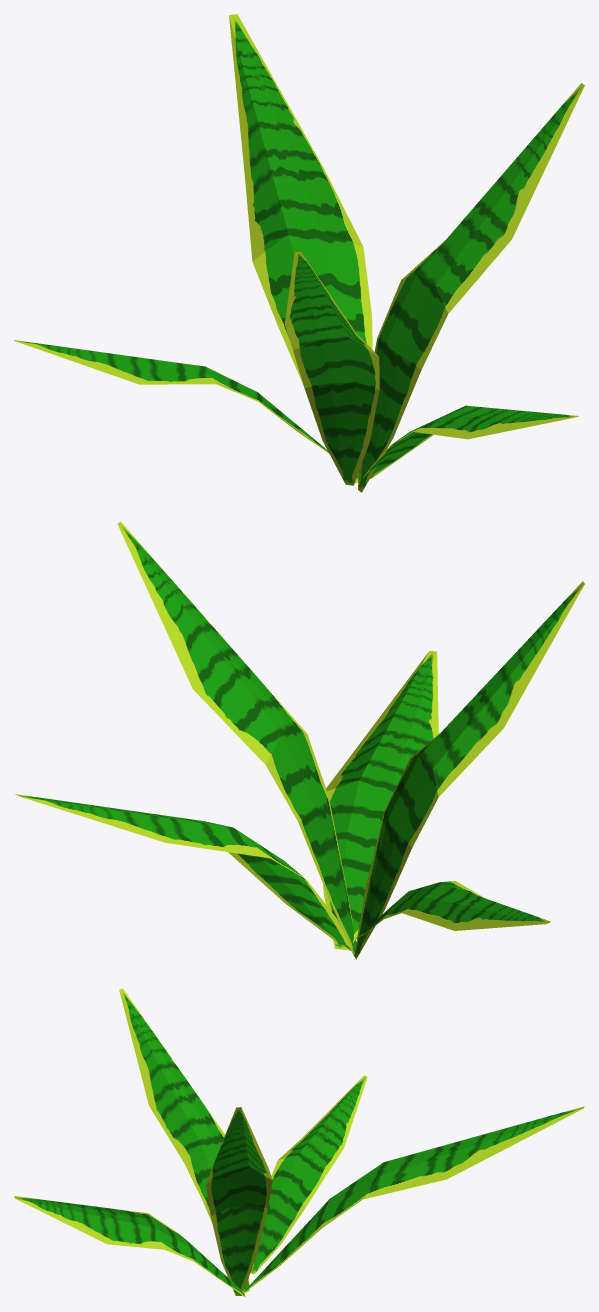
File: Suegra.obj
The picture shows the model from 3 angles, top to bottom: view 1: azimuth 30°, elevation 25°; view 2: azimuth 150°, elevation 25°; view 3: azimuth 270°, elevation 25°; orthographic projection. The views are drawn at different scales.
Parts seen in each view (by area): view 1: Plane_003; view 2: Plane_003; view 3: Plane_003.
Boxes of the visible parts, <box> form: Plane_003: <box>14,14,584,492</box>; Plane_003: <box>15,521,584,959</box>; Plane_003: <box>14,988,584,1297</box>.
Bounding box in the file's own units: 1.12 × 0.7743 × 1.47.
Materials: 1 (1 with a texture image).
